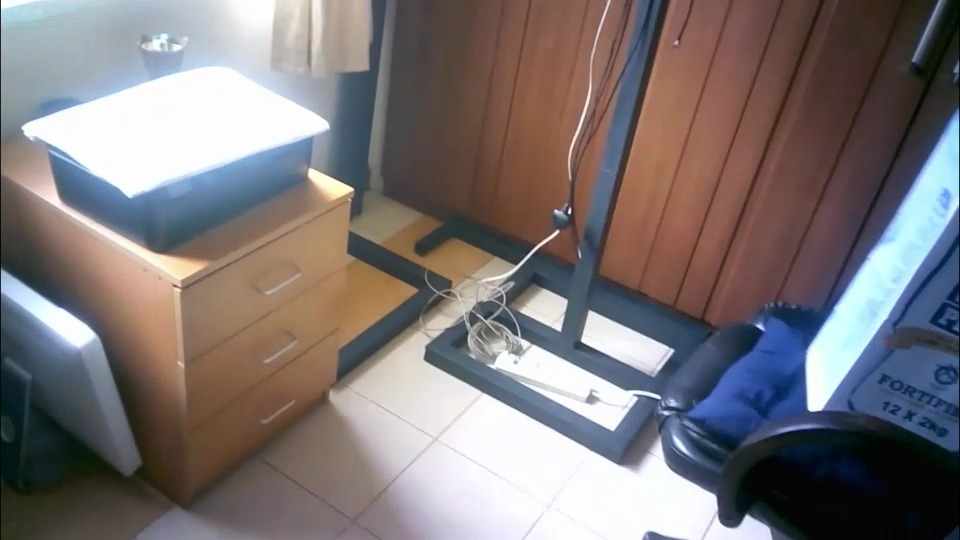wheat_flour_blue_label: (811, 99, 960, 450)
